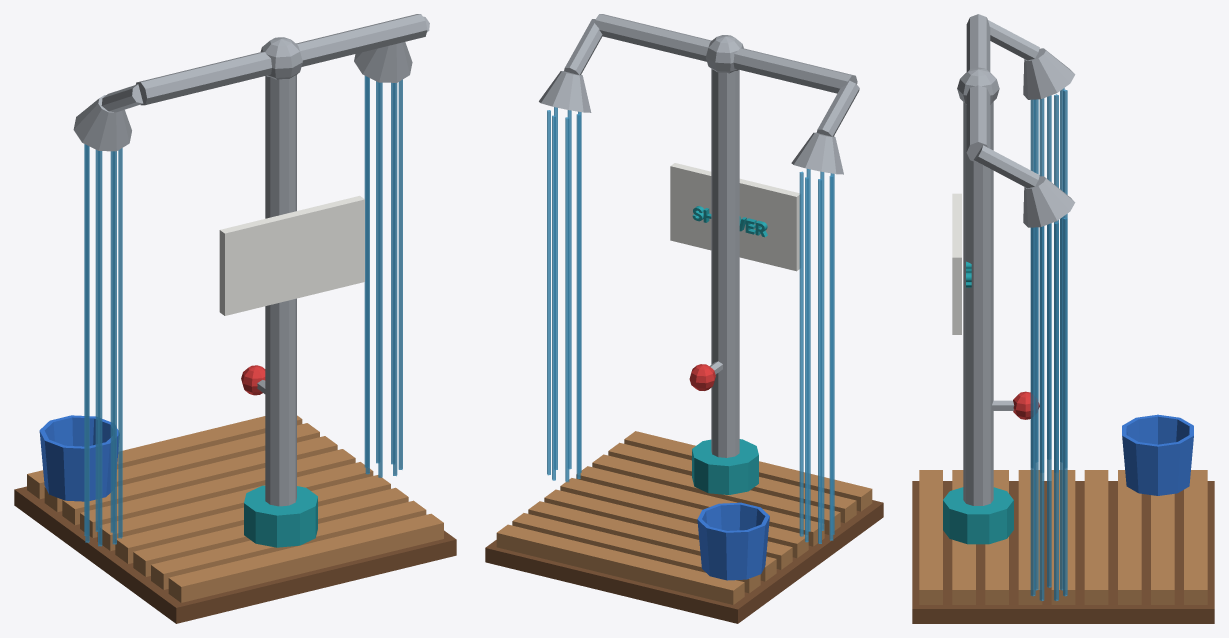
File: ShowerStation.fbx
The picture shows the model from 3 angles, left to right: view 1: azimuth 30°, elevation 25°; view 2: azimuth 150°, elevation 25°; view 3: azimuth 270°, elevation 25°; orthographic projection. The views are drawn at different scales.
Parts seen in each view (by area): view 1: ShowerStation_Plank, ShowerStation_Metal, ShowerStation_Water, ShowerStation_White, ShowerStation_WoodDark, ShowerStation_Blue, ShowerStation_Teal; view 2: ShowerStation_Plank, ShowerStation_Metal, ShowerStation_Water, ShowerStation_WoodDark, ShowerStation_White, ShowerStation_Blue, ShowerStation_Teal, ShowerStation_Red; view 3: ShowerStation_Plank, ShowerStation_Metal, ShowerStation_WoodDark, ShowerStation_Water, ShowerStation_Blue, ShowerStation_Teal, ShowerStation_White, ShowerStation_Red.
Boxes of the visible parts, bbox=[...] form: ShowerStation_Plank: bbox=[27, 415, 443, 602]; ShowerStation_Metal: bbox=[73, 14, 429, 506]; ShowerStation_Water: bbox=[84, 76, 402, 546]; ShowerStation_White: bbox=[219, 195, 364, 315]; ShowerStation_WoodDark: bbox=[14, 486, 456, 623]; ShowerStation_Blue: bbox=[39, 415, 119, 501]; ShowerStation_Teal: bbox=[244, 485, 317, 547]; ShowerStation_Plank: bbox=[496, 431, 872, 604]; ShowerStation_Metal: bbox=[539, 14, 859, 457]; ShowerStation_Water: bbox=[547, 107, 834, 543]; ShowerStation_WoodDark: bbox=[485, 500, 883, 623]; ShowerStation_White: bbox=[670, 163, 800, 271]; ShowerStation_Blue: bbox=[697, 502, 769, 580]; ShowerStation_Teal: bbox=[692, 206, 767, 494]; ShowerStation_Red: bbox=[689, 364, 715, 390]; ShowerStation_Plank: bbox=[919, 470, 1207, 604]; ShowerStation_Metal: bbox=[957, 14, 1075, 505]; ShowerStation_WoodDark: bbox=[912, 481, 1214, 623]; ShowerStation_Water: bbox=[1030, 88, 1067, 600]; ShowerStation_Blue: bbox=[1122, 414, 1193, 495]; ShowerStation_Teal: bbox=[943, 261, 1013, 544]; ShowerStation_White: bbox=[952, 193, 961, 334]; ShowerStation_Red: bbox=[1013, 391, 1039, 419].
Bounding box in the file's own units: 7.54 × 11.45 × 6.4.
